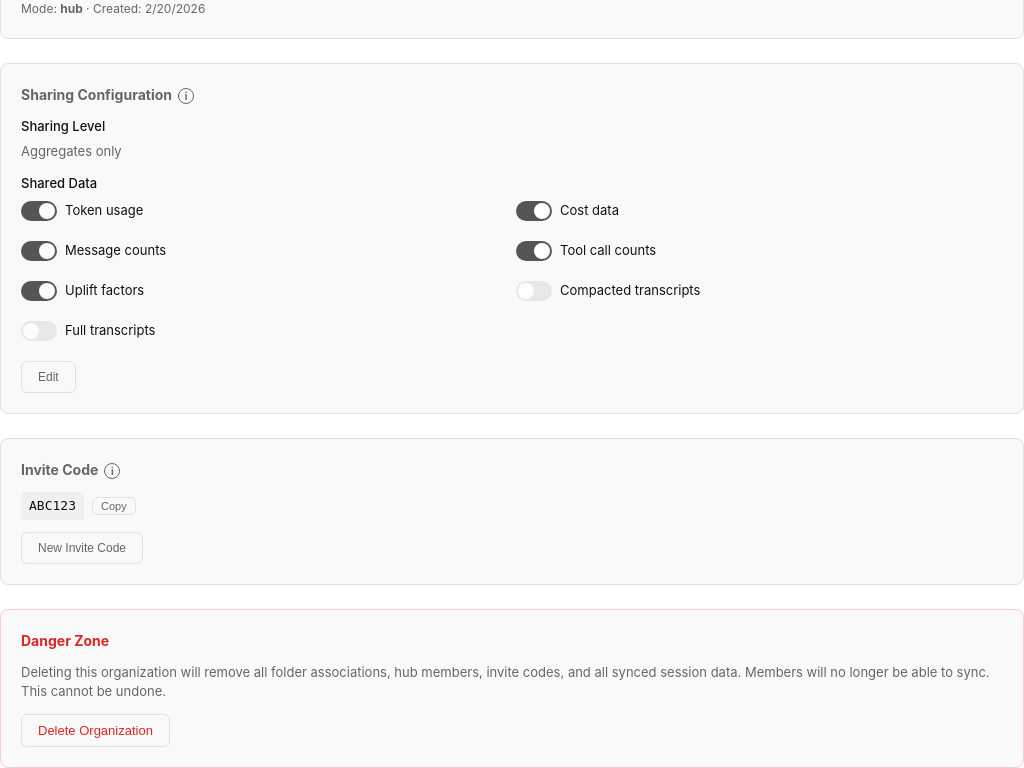
Test: OrganizationSettings › Danger Zone › opens delete confirmation modal
The image size is (1024, 768).
(page scrolled)
Click the button "Delete Organization".
click(95, 730)  # box top-left (21, 714), bottom-right (170, 746)
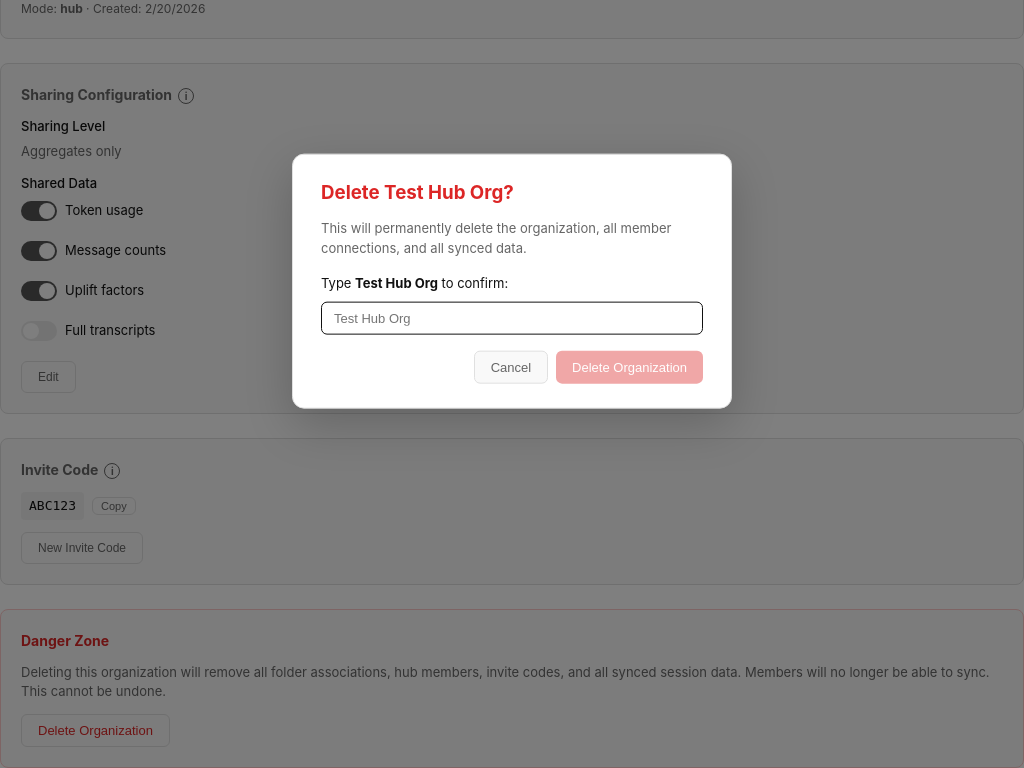
Expected: the heading "Delete Test Hub Org?" is shown, top-left (321, 181), bottom-right (514, 204)
Expected: the field with placeholder "Test Hub Org" is shown, top-left (321, 302), bottom-right (703, 335)
